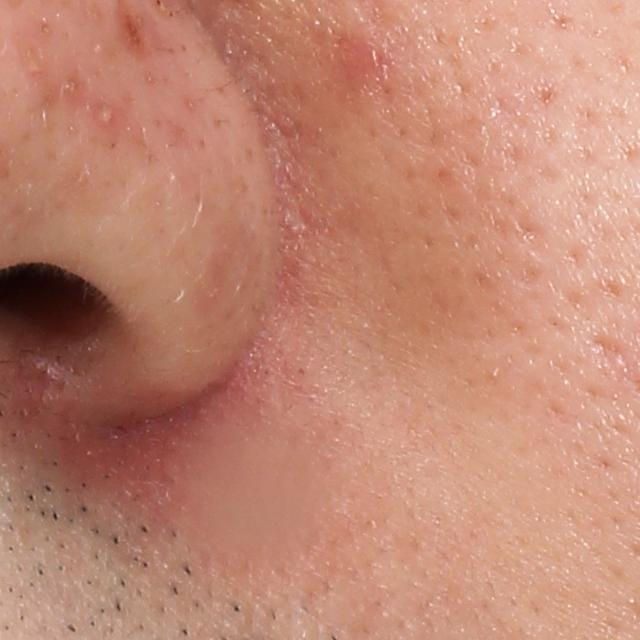pustule: (95, 102, 124, 129)
